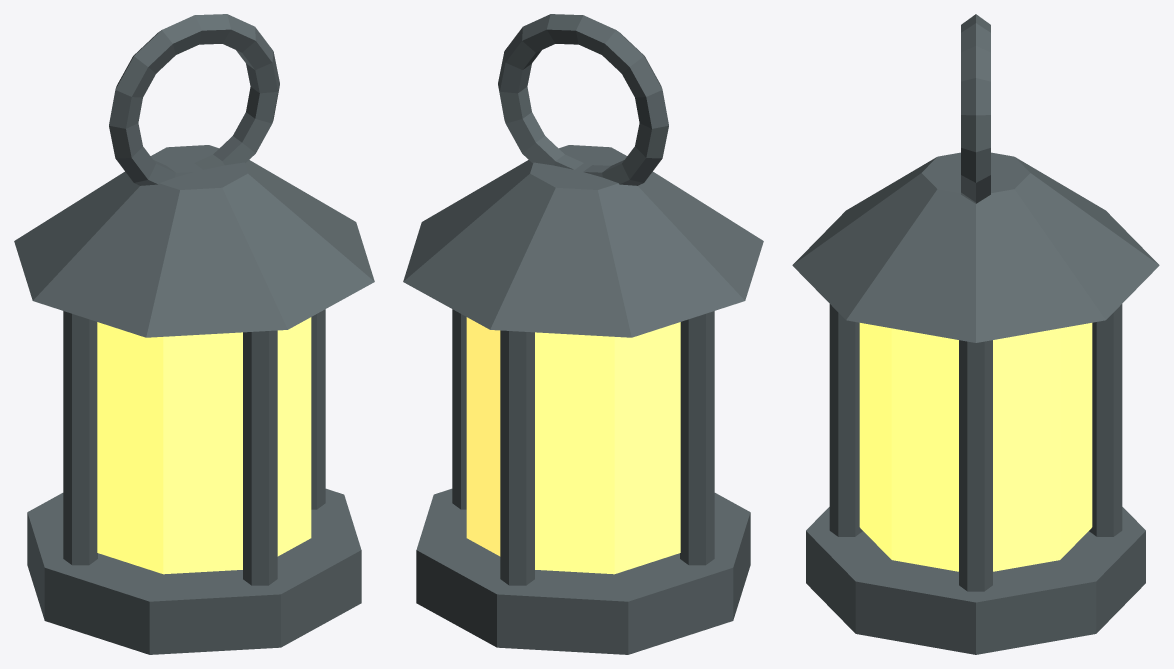
Rendered from cave_detail_lantern.glb.
3 renders of one model, left to right at view 1: azimuth 30°, elevation 25°; view 2: azimuth 150°, elevation 25°; view 3: azimuth 270°, elevation 25°, orthographic.
Parts seen in each view (by area): view 1: Pitched lantern hood, Amber glass, Octagonal foot, Carry loop, Protective frame.003, Protective frame.002, Protective frame; view 2: Pitched lantern hood, Amber glass, Octagonal foot, Carry loop, Protective frame.001, Protective frame.002, Protective frame; view 3: Amber glass, Pitched lantern hood, Octagonal foot, Protective frame, Protective frame.001, Protective frame.003, Carry loop.
Part boxes in pixels (bbox=[...]): Pitched lantern hood: bbox=[14, 145, 374, 337]; Amber glass: bbox=[97, 317, 311, 574]; Octagonal foot: bbox=[27, 488, 361, 654]; Carry loop: bbox=[109, 14, 279, 185]; Protective frame.003: bbox=[243, 330, 277, 585]; Protective frame.002: bbox=[63, 311, 97, 565]; Protective frame: bbox=[311, 309, 325, 509]; Pitched lantern hood: bbox=[403, 145, 763, 337]; Amber glass: bbox=[466, 317, 680, 574]; Octagonal foot: bbox=[416, 488, 750, 654]; Carry loop: bbox=[498, 14, 668, 185]; Protective frame.001: bbox=[500, 330, 534, 585]; Protective frame.002: bbox=[680, 311, 714, 565]; Protective frame: bbox=[452, 309, 466, 509]; Amber glass: bbox=[859, 323, 1092, 571]; Pitched lantern hood: bbox=[792, 152, 1159, 342]; Octagonal foot: bbox=[806, 507, 1145, 654]; Protective frame: bbox=[959, 340, 992, 591]; Protective frame.001: bbox=[1089, 304, 1122, 536]; Protective frame.003: bbox=[829, 304, 862, 536]; Carry loop: bbox=[961, 14, 990, 203].
Size of the model in its own units: 0.54 by 0.908 by 0.54.
